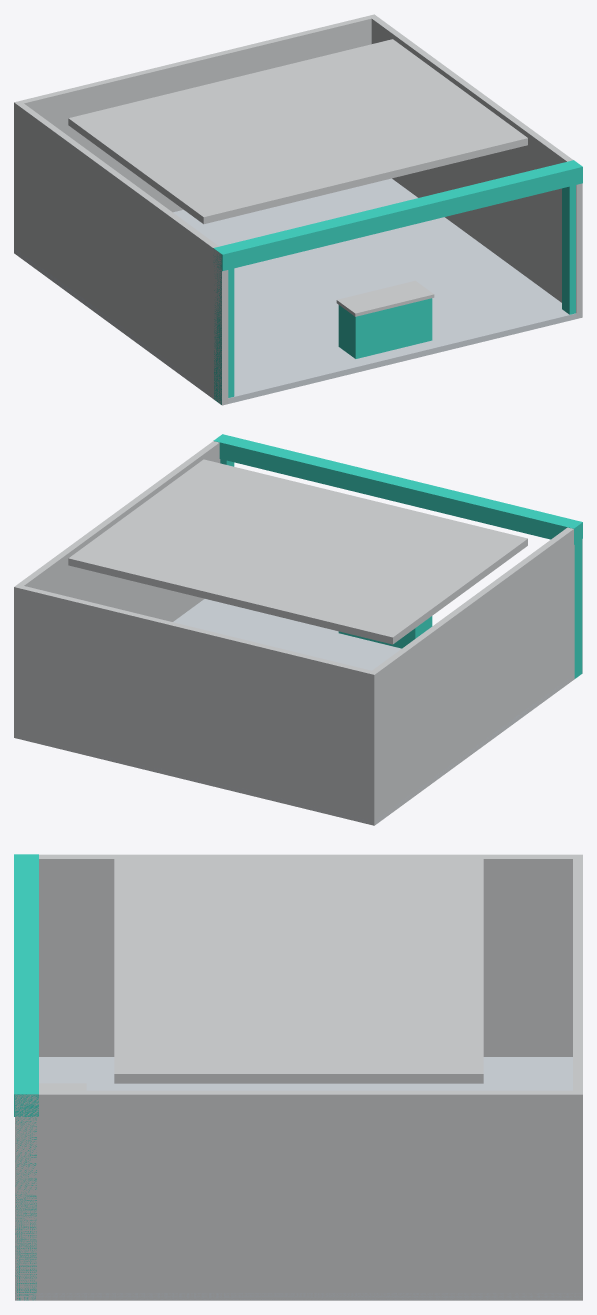
3 views of the same model, one above another, from view 1: azimuth 30°, elevation 25°; view 2: azimuth 150°, elevation 25°; view 3: azimuth 270°, elevation 25° (orthographic). The views are drawn at different scales.
Parts seen in each view (by area): view 1: Exhibition Booth Concept; view 2: Exhibition Booth Concept; view 3: Exhibition Booth Concept.
Part boxes in pixels (<box>): Exhibition Booth Concept: <box>14,14,582,405</box>; Exhibition Booth Concept: <box>14,434,582,825</box>; Exhibition Booth Concept: <box>14,854,582,1300</box>.
Size of the model in its own units: 8 by 3.34 by 8.01.
